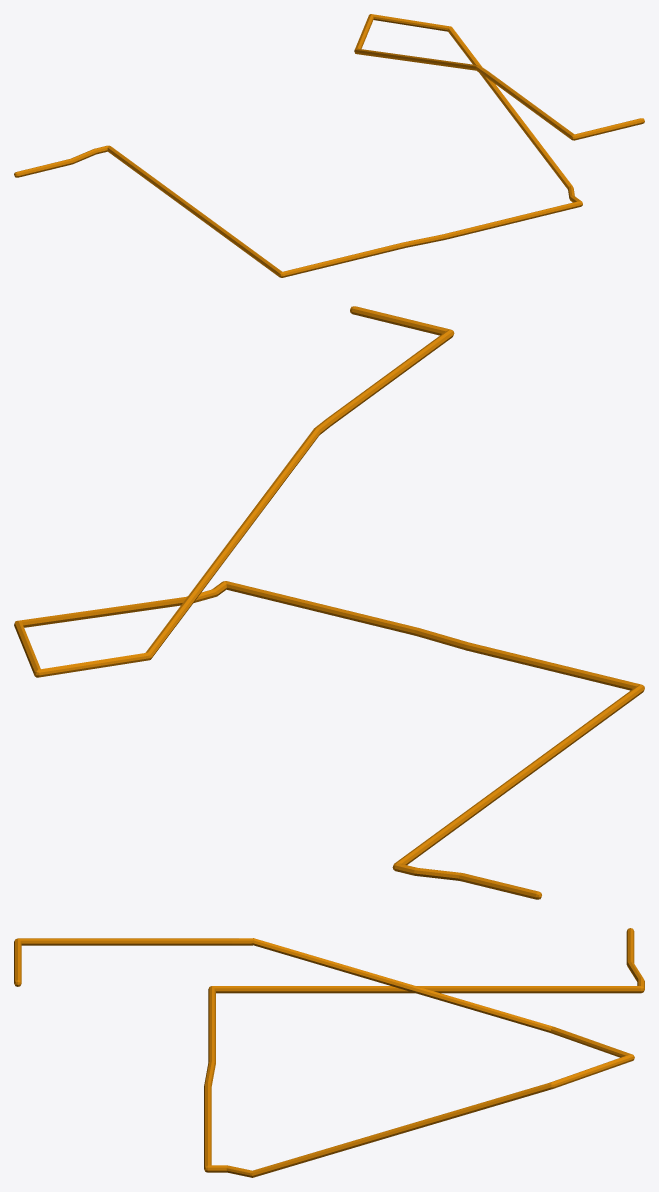
The picture shows the model from 3 angles, top to bottom: view 1: azimuth 30°, elevation 25°; view 2: azimuth 150°, elevation 25°; view 3: azimuth 270°, elevation 25°; orthographic projection. The views are drawn at different scales.
Bounding box in the file's own units: 1492 × 520 × 1618.
